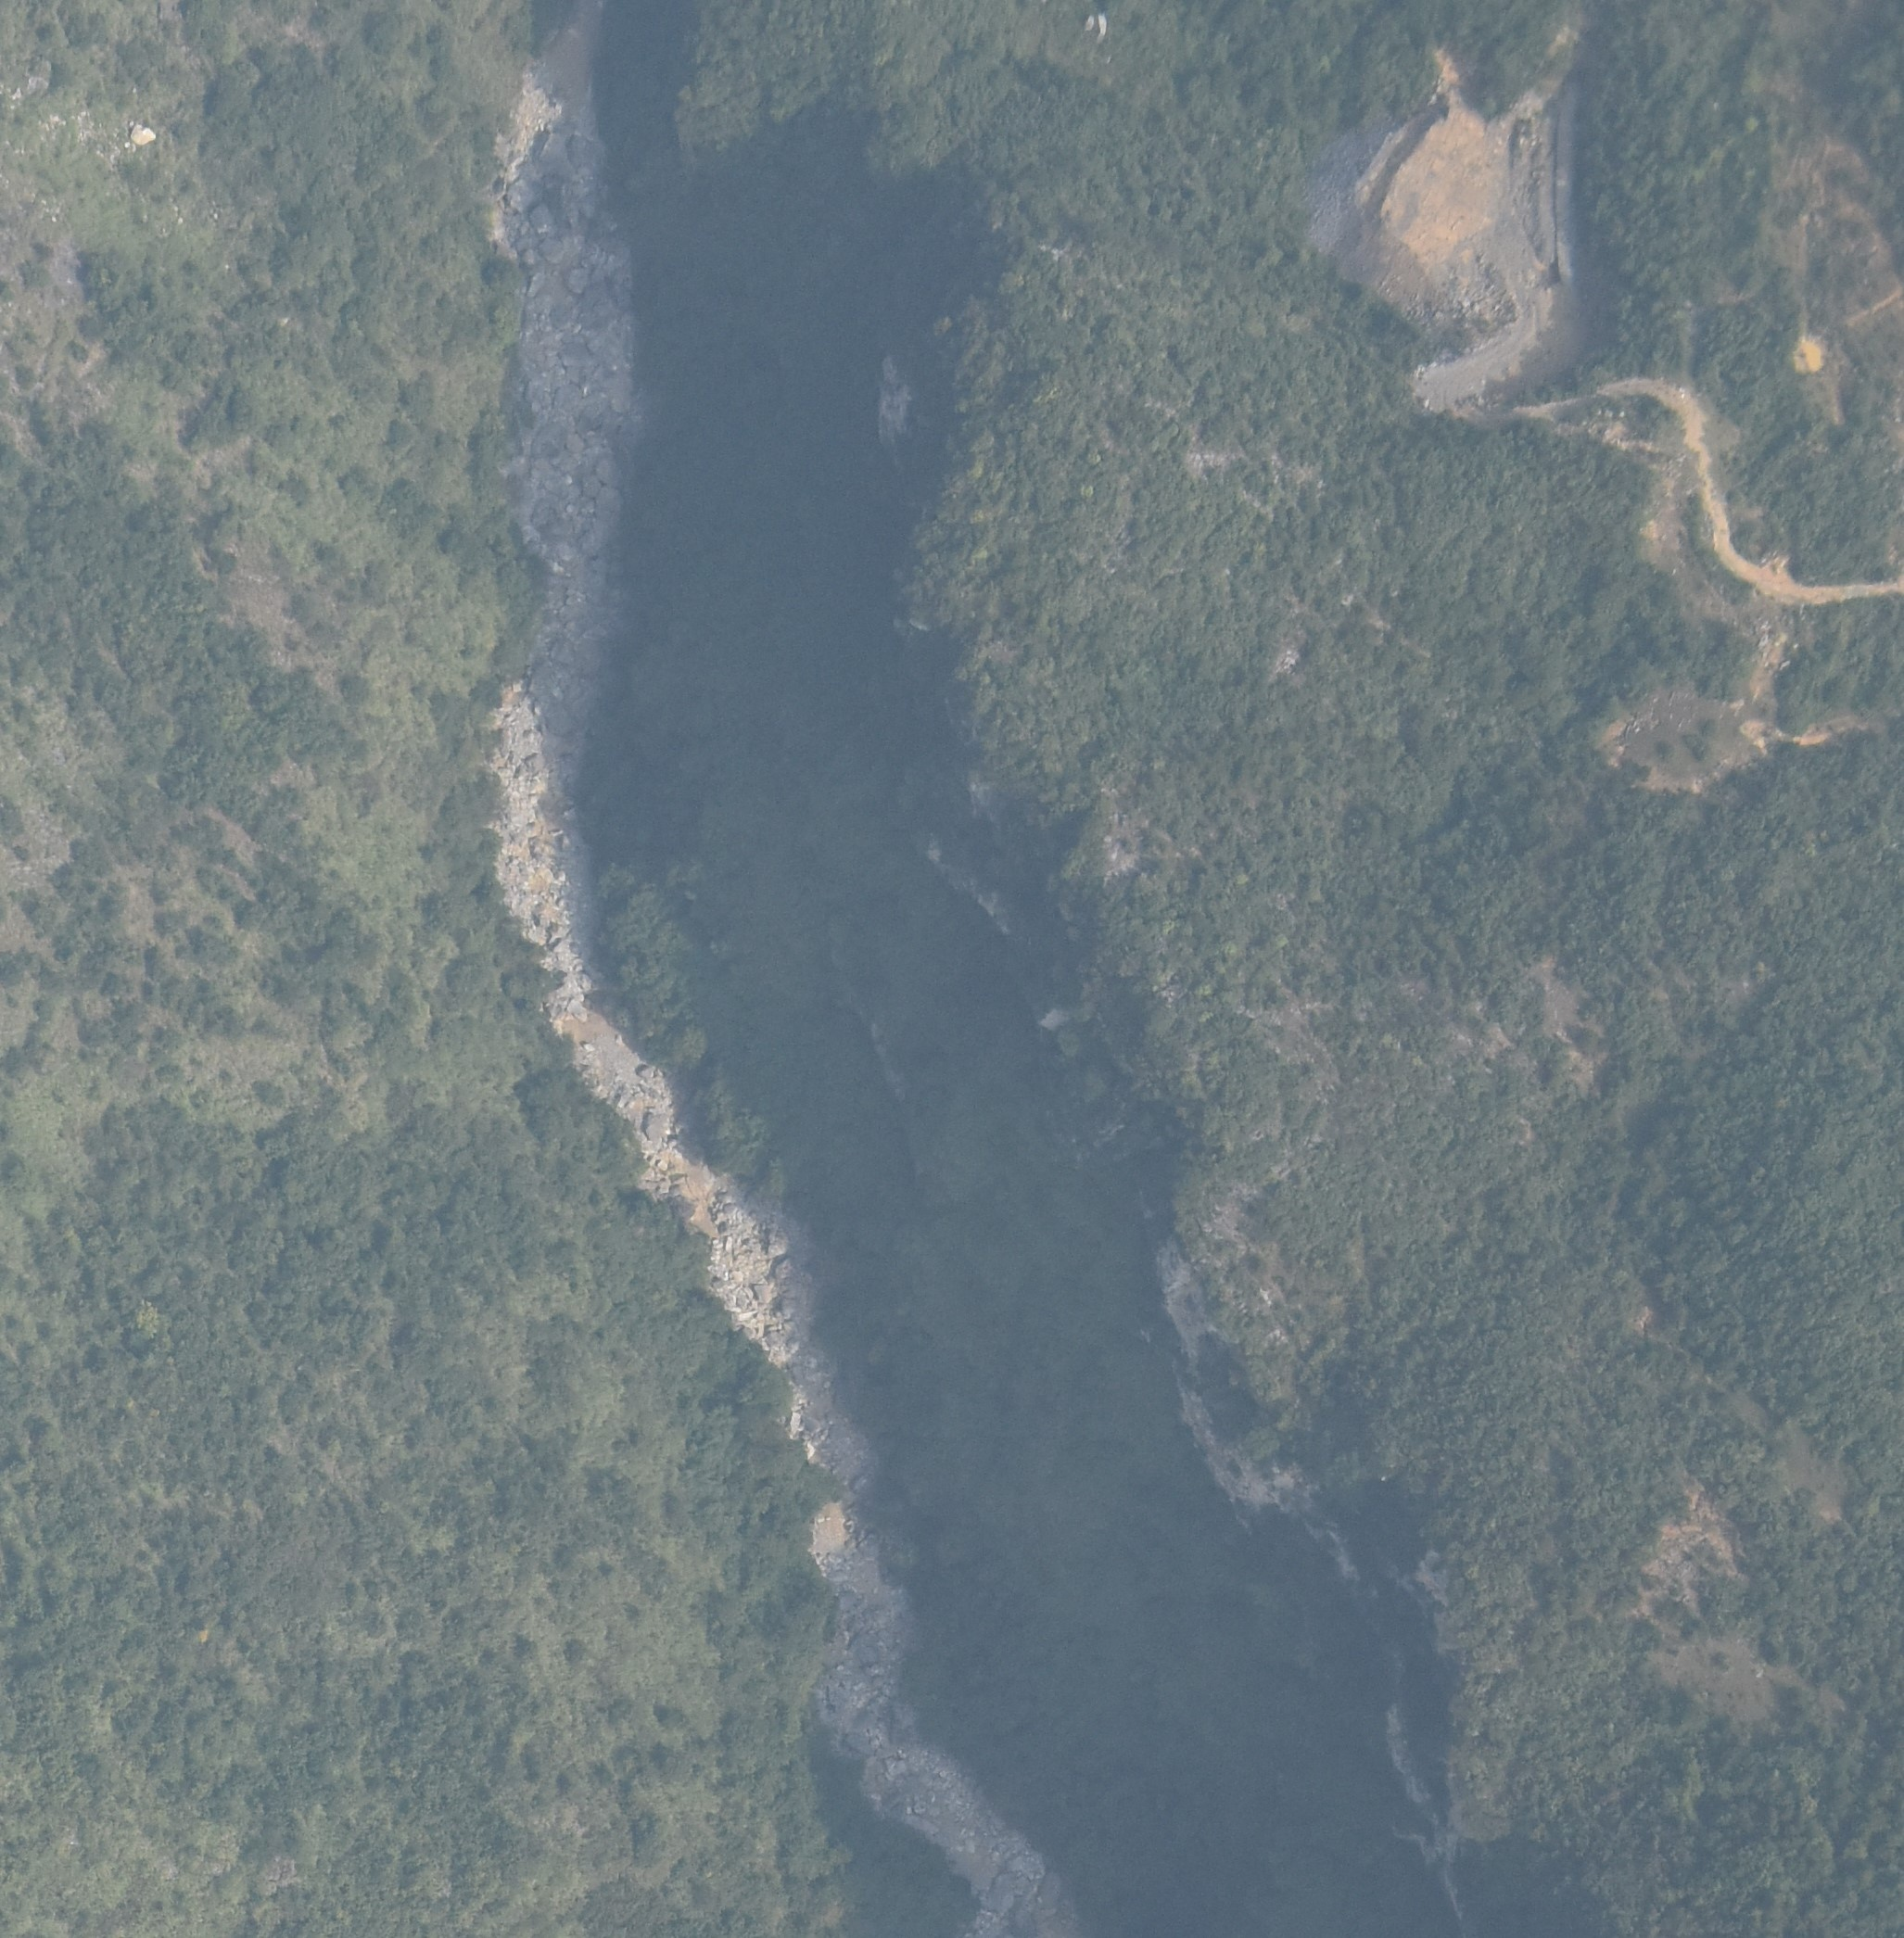quarry: (1302, 65, 1595, 425)
